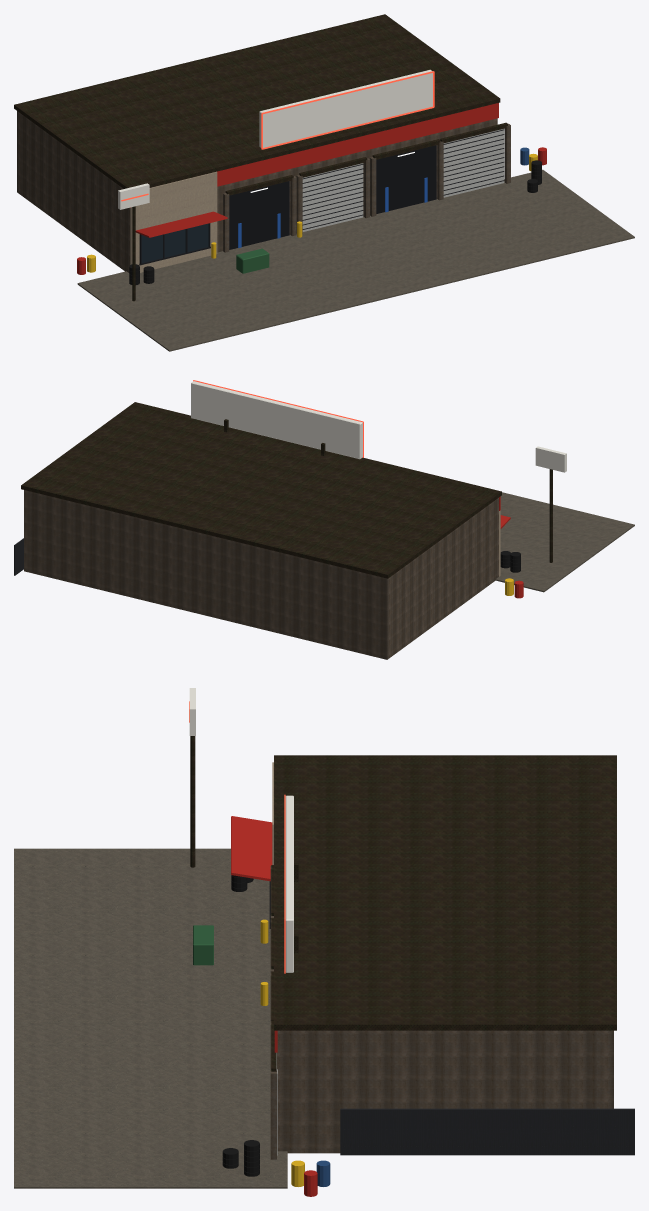
File: OT_RepairShop_A.glb
3 views of the same model, one above another, from view 1: azimuth 30°, elevation 25°; view 2: azimuth 150°, elevation 25°; view 3: azimuth 270°, elevation 25° (orthographic). The views are drawn at different scales.
Parts seen in each view (by area): view 1: OT_RepairShop_A_Pavement, OT_RepairShop_A_Metal, OT_RepairShop_A_Block, OT_RepairShop_A_SignPanel__f2efe6, OT_RepairShop_A_RollDoor__b8b8b4, OT_RepairShop_A_BayInterior__15161a, OT_RepairShop_A_ShopRed__b5261e, OT_RepairShop_A_Stucco, OT_RepairShop_A_Frame__1a1b1e, OT_RepairShop_A_Glass__1e2a33, OT_RepairShop_A_NeonRed__ff3b2a, OT_RepairShop_A_Tire__151515 (+1 smaller); view 2: OT_RepairShop_A_Metal, OT_RepairShop_A_Block, OT_RepairShop_A_Pavement, OT_RepairShop_A_SignPanel__f2efe6; view 3: OT_RepairShop_A_Metal, OT_RepairShop_A_Pavement, OT_RepairShop_A_Block, OT_RepairShop_A_Corrugated, OT_RepairShop_A_ShopRed__b5261e, OT_RepairShop_A_SignPanel__f2efe6, OT_RepairShop_A_Tire__151515, OT_RepairShop_A_Dumpster__2f5d3a, OT_RepairShop_A_Yellow__e8b81e.
Part boxes in pixels (x1=…): OT_RepairShop_A_Pavement: x1=77, y1=169, x2=634, y2=351; OT_RepairShop_A_Metal: x1=14, y1=14, x2=507, y2=301; OT_RepairShop_A_Block: x1=17, y1=111, x2=510, y2=272; OT_RepairShop_A_SignPanel__f2efe6: x1=118, y1=69, x2=432, y2=209; OT_RepairShop_A_RollDoor__b8b8b4: x1=302, y1=129, x2=504, y2=231; OT_RepairShop_A_BayInterior__15161a: x1=229, y1=145, x2=436, y2=249; OT_RepairShop_A_ShopRed__b5261e: x1=77, y1=103, x2=546, y2=274; OT_RepairShop_A_Stucco: x1=130, y1=171, x2=217, y2=272; OT_RepairShop_A_Frame__1a1b1e: x1=139, y1=129, x2=504, y2=265; OT_RepairShop_A_Glass__1e2a33: x1=141, y1=223, x2=208, y2=262; OT_RepairShop_A_NeonRed__ff3b2a: x1=121, y1=71, x2=434, y2=201; OT_RepairShop_A_Tire__151515: x1=129, y1=160, x2=541, y2=284; OT_RepairShop_A_Metal: x1=21, y1=402, x2=552, y2=578; OT_RepairShop_A_Block: x1=24, y1=490, x2=498, y2=659; OT_RepairShop_A_Pavement: x1=495, y1=492, x2=634, y2=592; OT_RepairShop_A_SignPanel__f2efe6: x1=191, y1=381, x2=566, y2=472; OT_RepairShop_A_Metal: x1=190, y1=736, x2=616, y2=1071; OT_RepairShop_A_Pavement: x1=14, y1=848, x2=287, y2=1188; OT_RepairShop_A_Block: x1=270, y1=866, x2=613, y2=1159; OT_RepairShop_A_Corrugated: x1=340, y1=1108, x2=634, y2=1155; OT_RepairShop_A_ShopRed__b5261e: x1=231, y1=816, x2=317, y2=1196; OT_RepairShop_A_SignPanel__f2efe6: x1=189, y1=688, x2=293, y2=972; OT_RepairShop_A_Tire__151515: x1=222, y1=875, x2=259, y2=1176; OT_RepairShop_A_Dumpster__2f5d3a: x1=193, y1=925, x2=213, y2=965; OT_RepairShop_A_Yellow__e8b81e: x1=260, y1=919, x2=304, y2=1186.
Size of the model in its own units: 38.92 by 9.93 by 29.5.
Materials: 20 (5 with a texture image).
